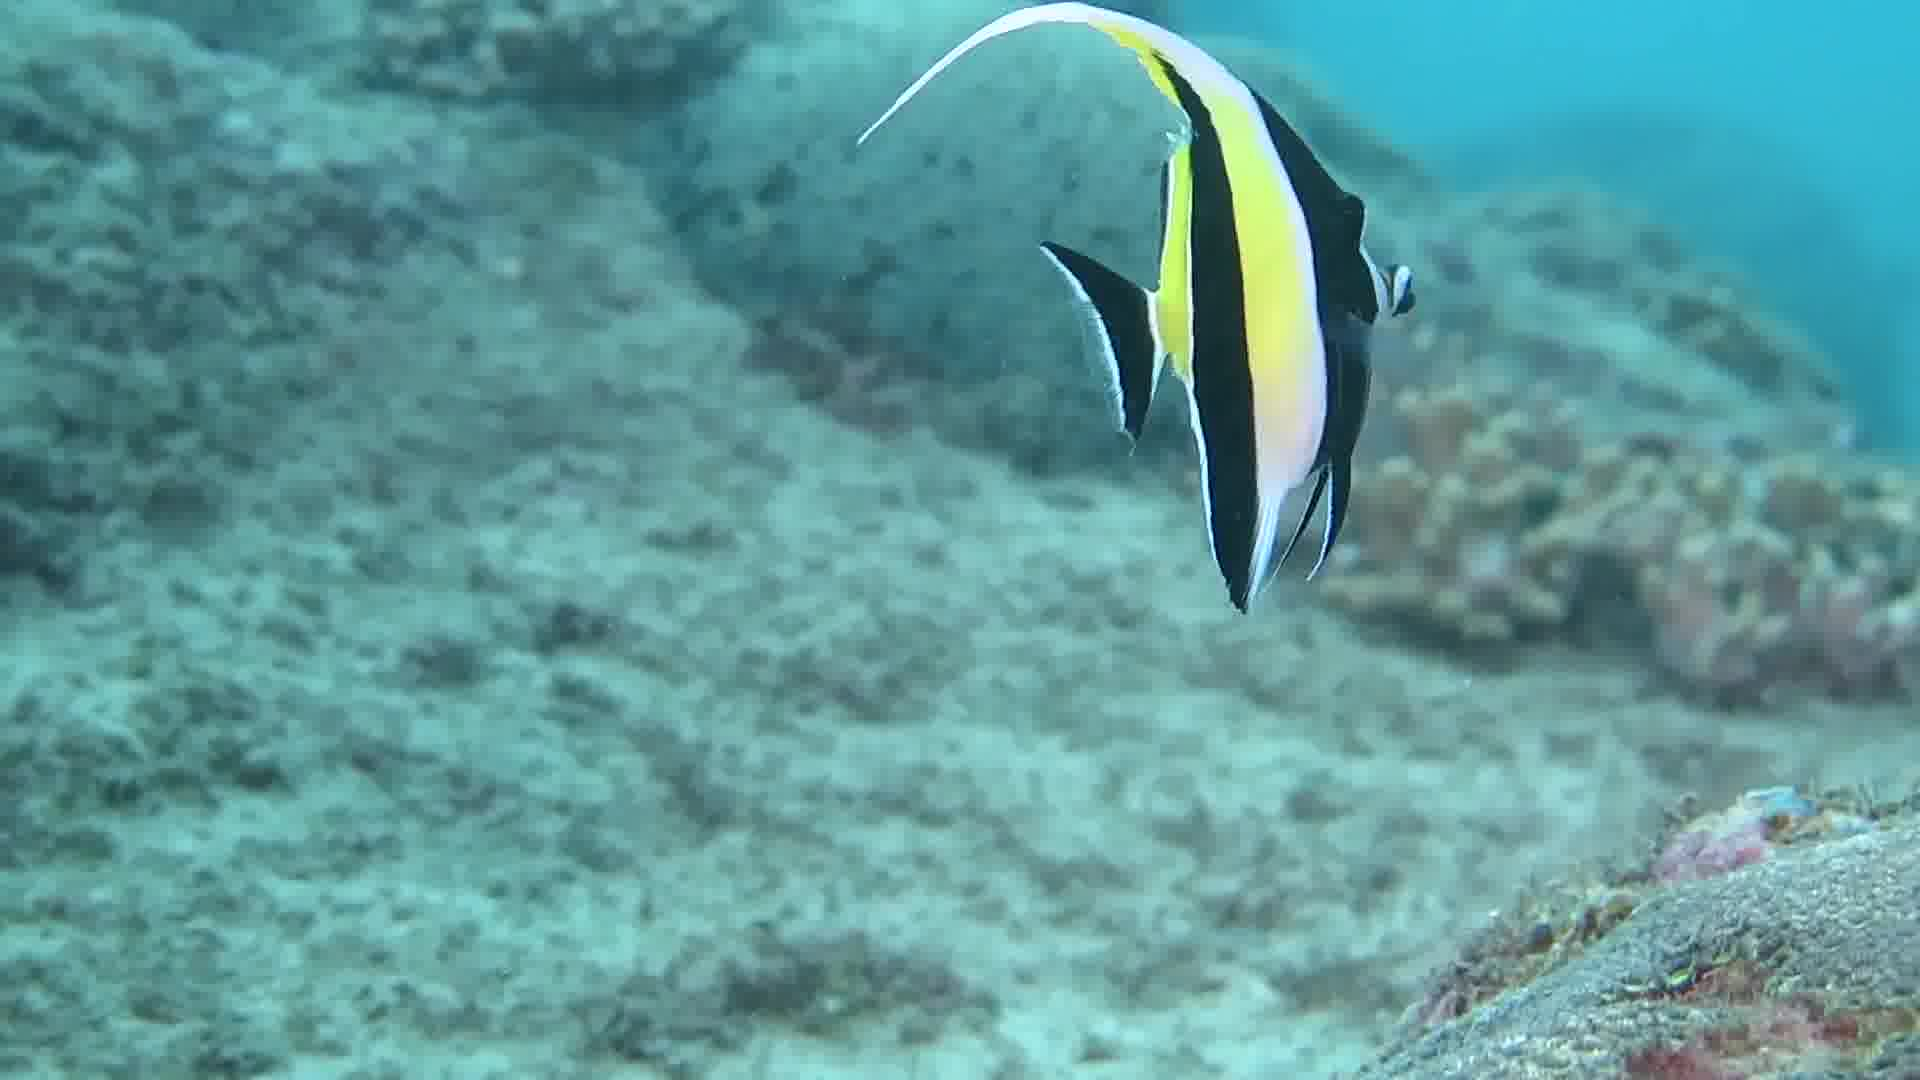Zanclus cornutus: (945, 1, 1448, 669)
